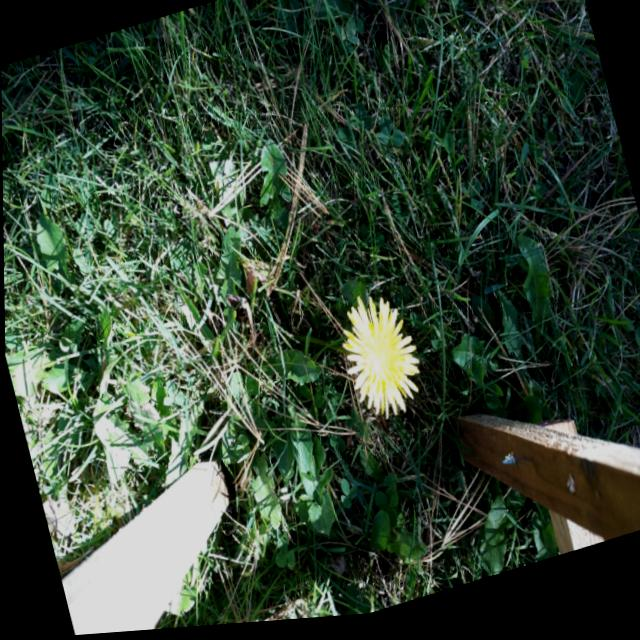base: (282, 321, 313, 363)
flower: (330, 293, 427, 429)
